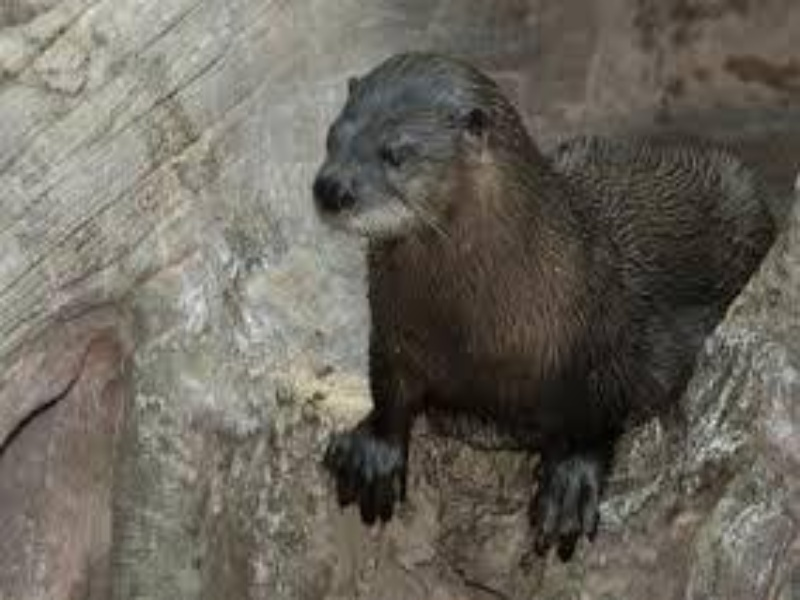minkish: (300, 48, 776, 559)
